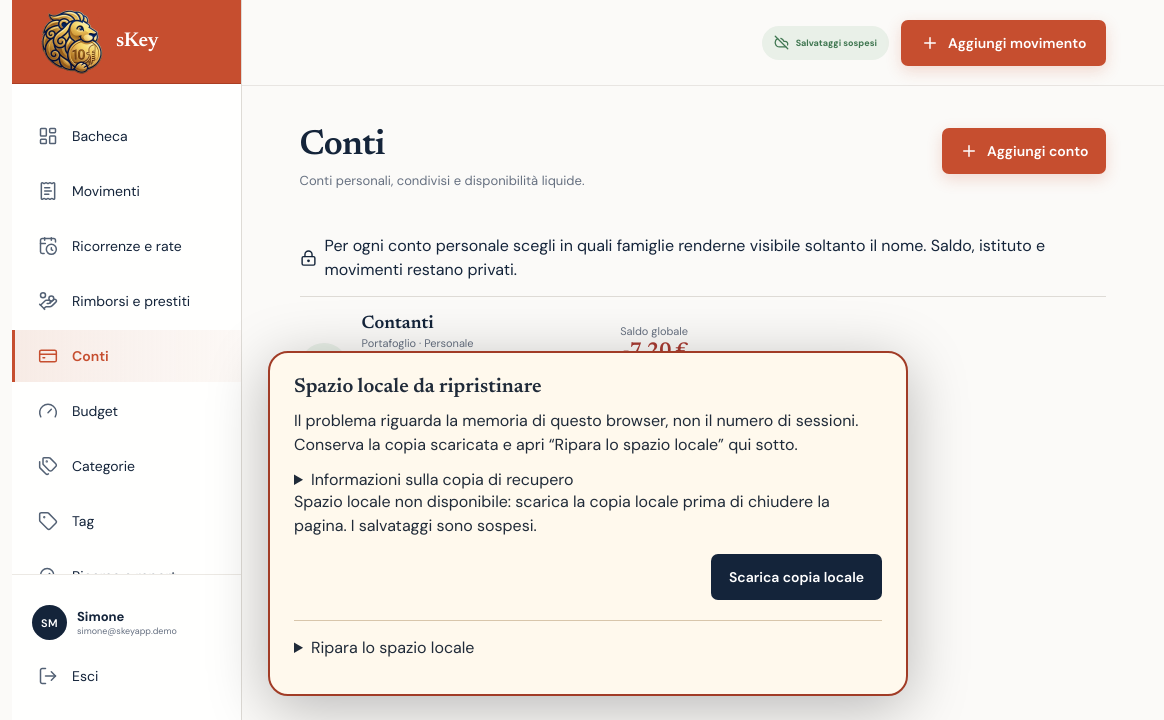
cloud save lifecycle on mobile › archives all unique raw copies before reclaiming quota and never uploads the old archive
The image size is (1164, 720).
Expected: the text "Spazio locale non disponibile: scarica la copia locale prima di chiudere la pagina. I salvataggi sono sospesi." is shown, [294,491,830,536]
Click the heading "Ripara lo spazio locale".
click(393, 648)  # box [311,637,474,658]
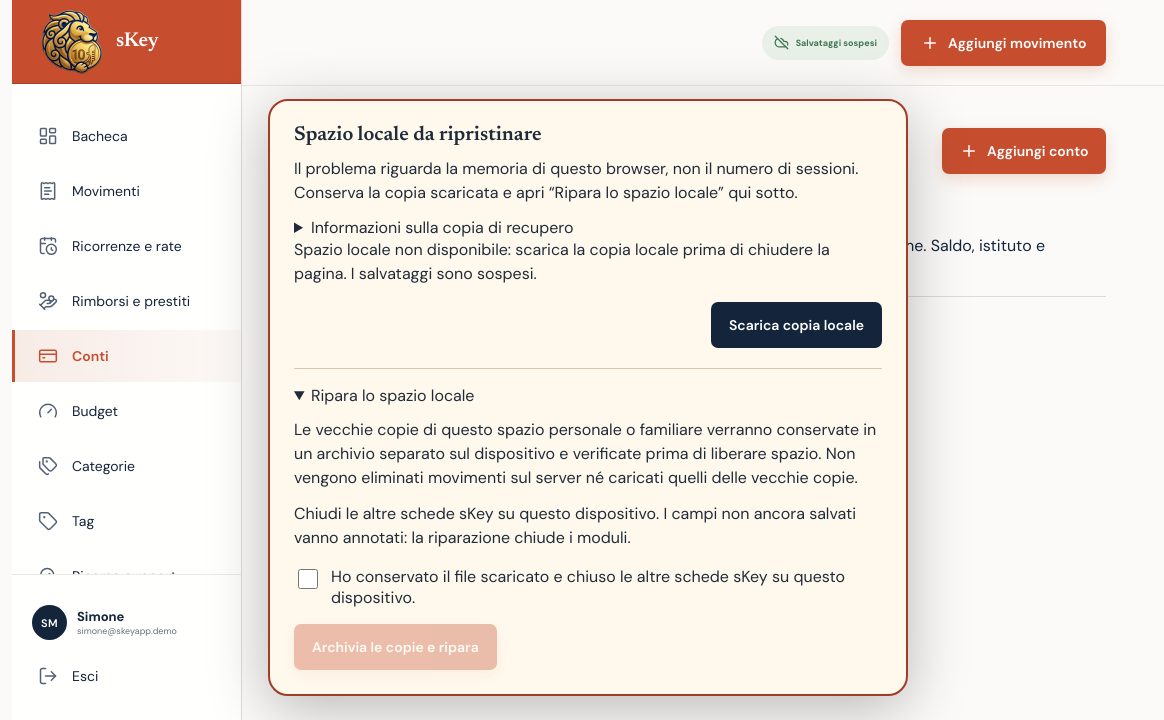
Now the button "Archivia le copie e ripara" is disabled, box [294,624,497,670]
Click the checkbox labelled "Ho conservato il file scaricato".
click(308, 579)  # box [298,569,318,589]
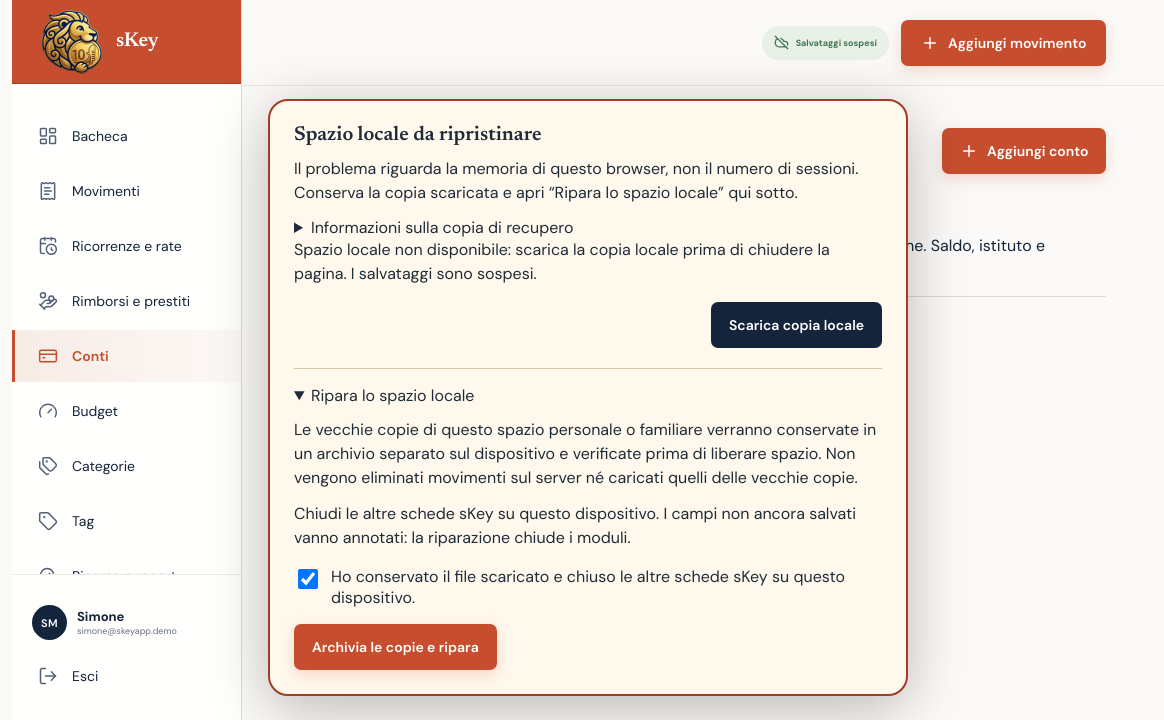
Now the button "Archivia le copie e ripara" is enabled
Click the button "Archivia le copie e ripara".
click(395, 647)  # box [294,624,497,670]
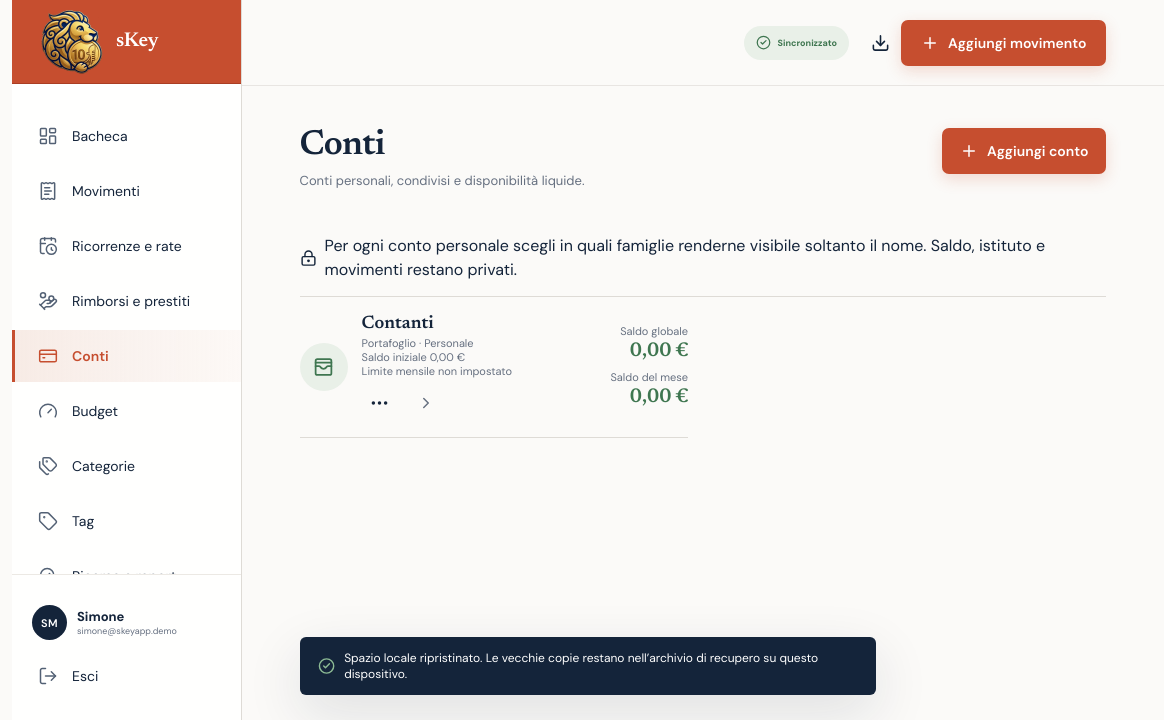
Now the text "Sincronizzato" is shown, box [744,26,849,60]
Now the button named "Scarica ultima copia di recupero" is shown, box [861,22,901,62]
